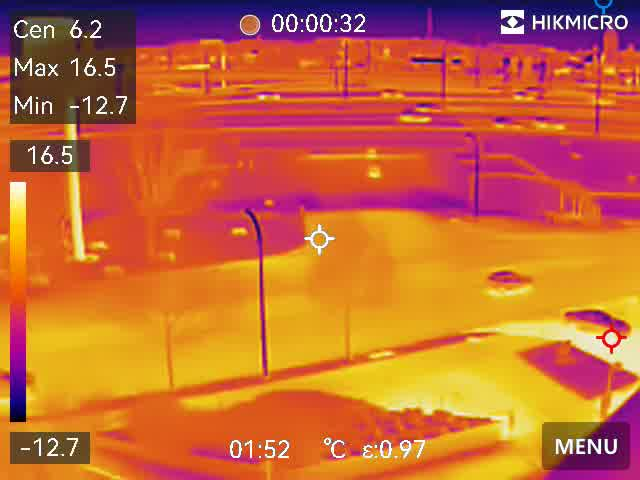smallCar: (564, 305, 631, 338)
vehicle: (485, 268, 530, 294), (532, 116, 567, 133), (253, 85, 282, 105), (398, 112, 432, 125), (490, 118, 524, 131), (511, 89, 538, 103), (378, 89, 405, 100)
